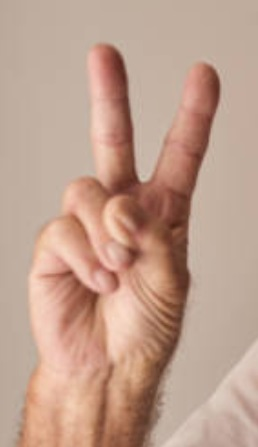peace: (27, 43, 221, 382)
